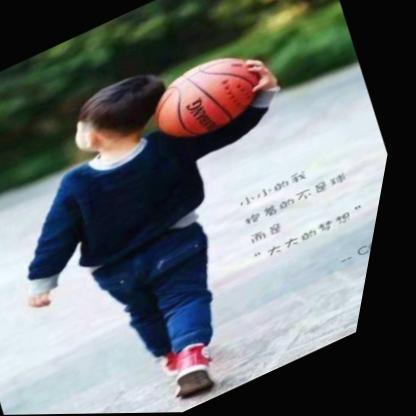basketball: (145, 46, 276, 150)
